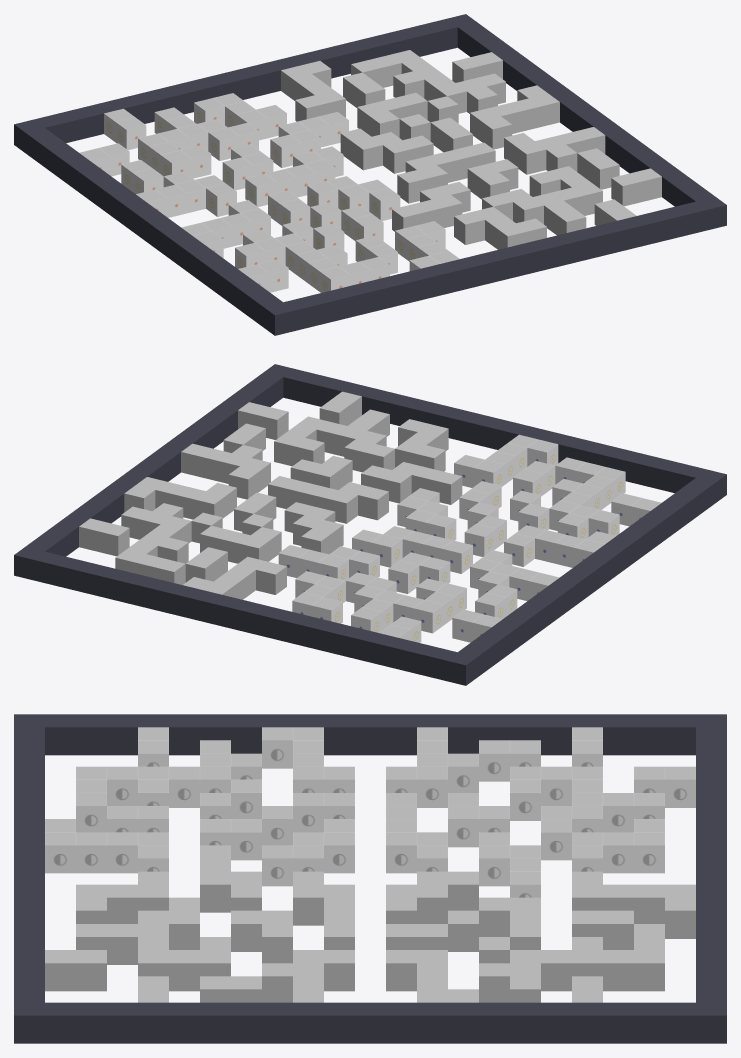
The model's file is Maze.fbx.
3 views of the same model, one above another, from view 1: azimuth 30°, elevation 25°; view 2: azimuth 150°, elevation 25°; view 3: azimuth 270°, elevation 25° (orthographic). The views are drawn at different scales.
Parts seen in each view (by area): view 1: Maze1; view 2: Maze1; view 3: Maze1.
Boxes of the visible parts, x1=… form: Maze1: x1=14, y1=14, x2=726, y2=335; Maze1: x1=14, y1=364, x2=726, y2=685; Maze1: x1=14, y1=714, x2=726, y2=1043.
Size of the model in its own units: 23 by 1 by 23.
